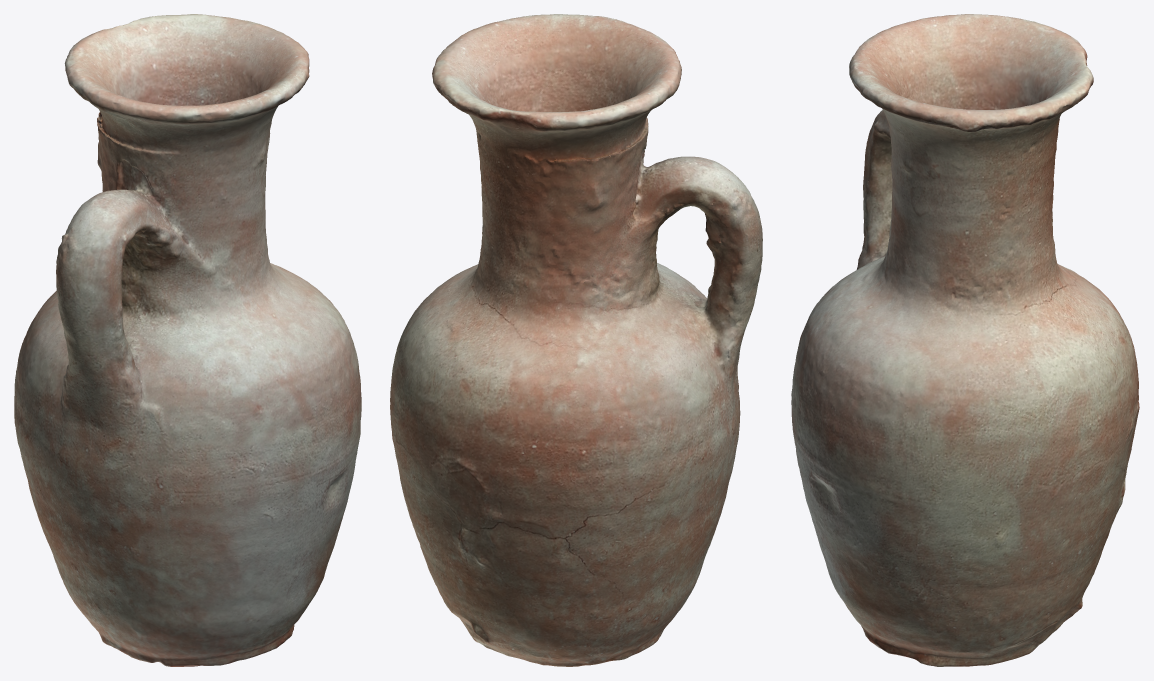
File: obj_vasija_pot_5ce01e.glb
3 renders of one model, left to right at view 1: azimuth 30°, elevation 25°; view 2: azimuth 150°, elevation 25°; view 3: azimuth 270°, elevation 25°, orthographic.
Parts seen in each view (by area): view 1: obj_vasija_pot_5ce01e; view 2: obj_vasija_pot_5ce01e; view 3: obj_vasija_pot_5ce01e.
Part boxes in pixels (x1,y1,x2,y2): obj_vasija_pot_5ce01e: (14,14,361,666); obj_vasija_pot_5ce01e: (390,14,762,666); obj_vasija_pot_5ce01e: (791,14,1139,666).
Size of the model in its own units: 0.1721 by 0.3 by 0.1667.
Materials: 1 (1 with a texture image).
